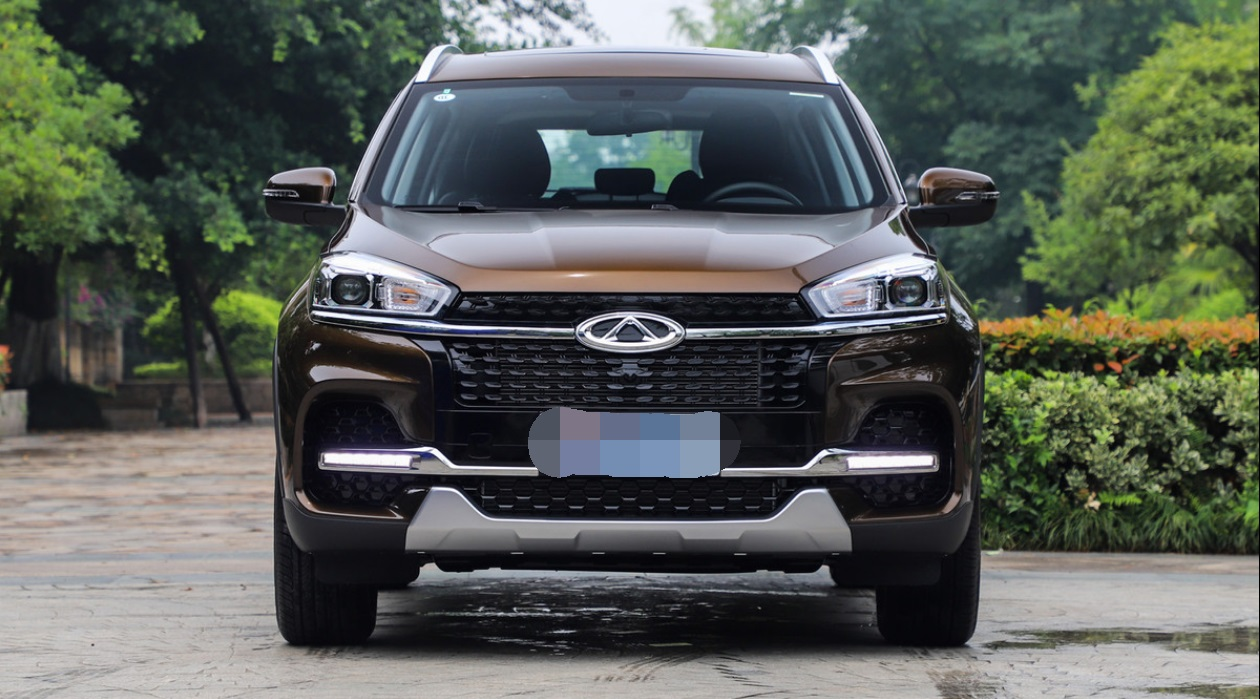SUV: (259, 35, 1004, 659)
